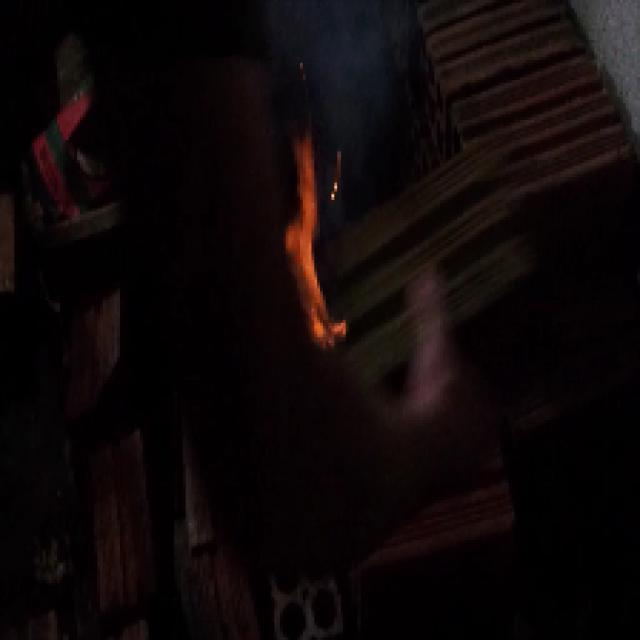Fire: (276, 141, 348, 342)
Smoke: (308, 9, 382, 110)
